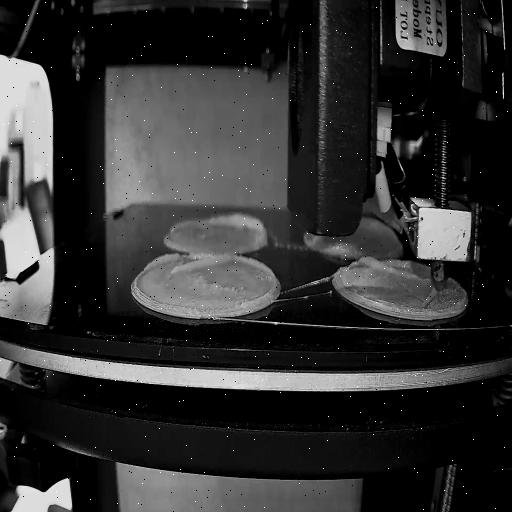over_extrusion: (234, 254, 278, 310), (141, 253, 232, 276), (207, 212, 267, 246), (357, 258, 430, 285), (424, 291, 436, 305)
